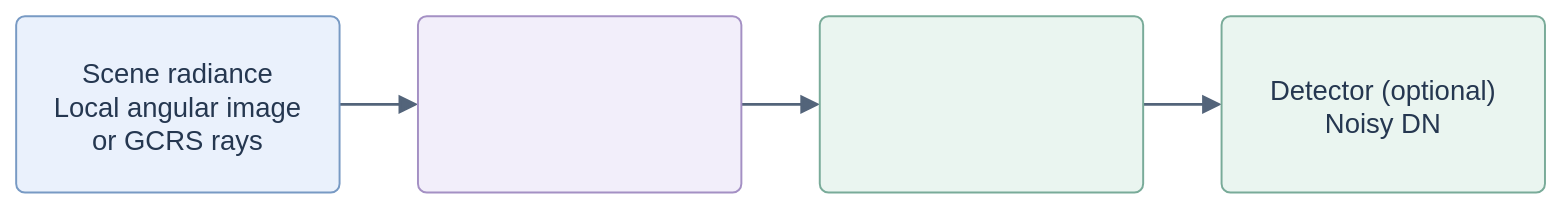
The diagram is 1561 pixels wide and 209 high, and some of its shapes have lost their labels. Each missing label, with the centre of its shape:
"Geometry + optics Collect light" goes at pixel 579 104.
"Integration Mean photoelectrons" goes at pixel 981 104.
